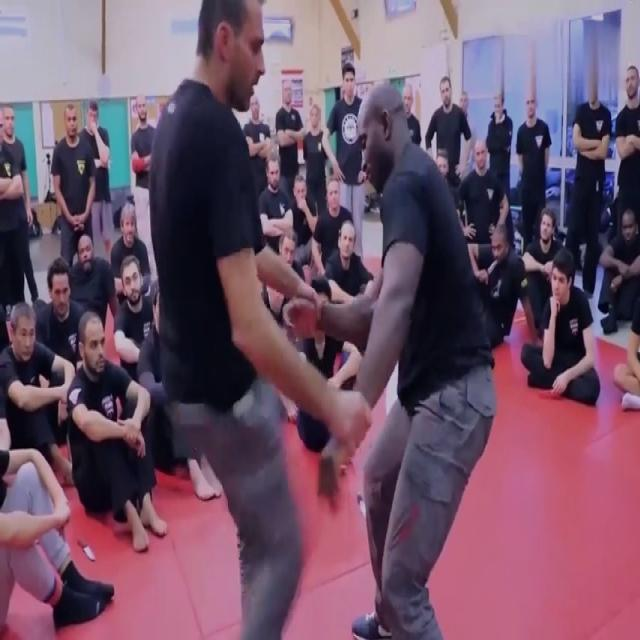fight: (146, 1, 497, 640)
non-fight: (66, 301, 167, 552), (526, 248, 606, 405), (0, 92, 41, 310), (52, 95, 96, 273)
